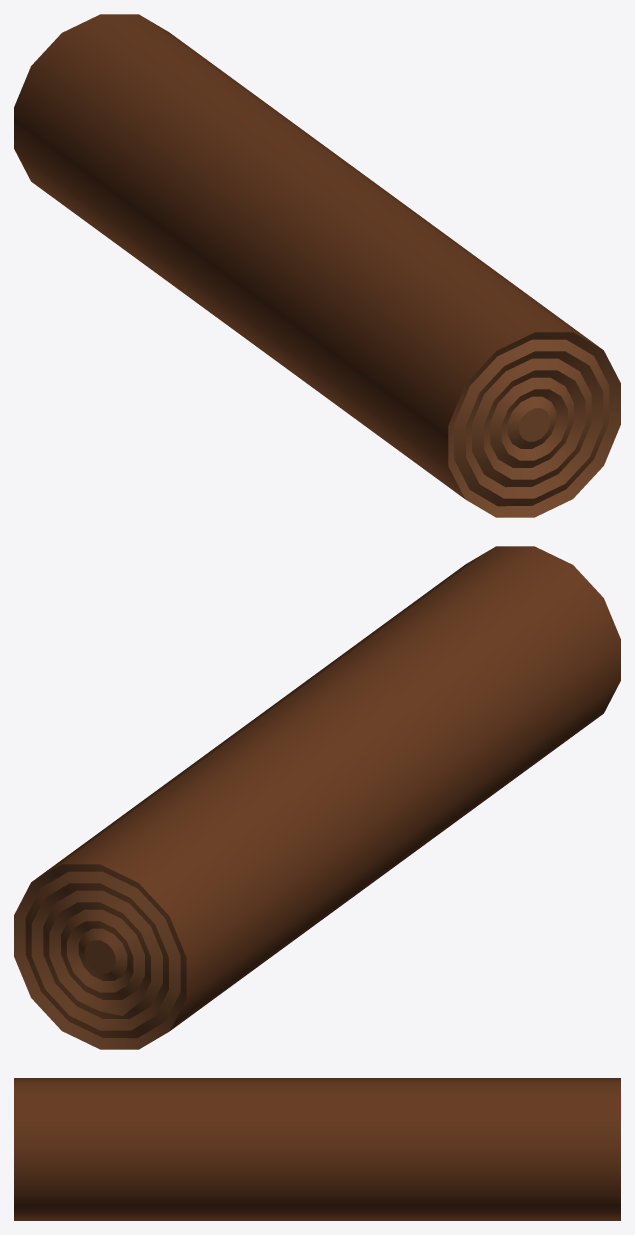
Rendered from Log.fbx.
3 views of the same model, one above another, from view 1: azimuth 30°, elevation 25°; view 2: azimuth 150°, elevation 25°; view 3: azimuth 270°, elevation 25° (orthographic). The views are drawn at different scales.
Parts seen in each view (by area): view 1: Log; view 2: Log; view 3: Log.
Boxes of the visible parts, box(x1,y1,x2,y2) form: Log: box(14, 14, 620, 517); Log: box(14, 546, 620, 1049); Log: box(14, 1078, 620, 1220).
Size of the model in its own units: 117 by 120 by 510.
